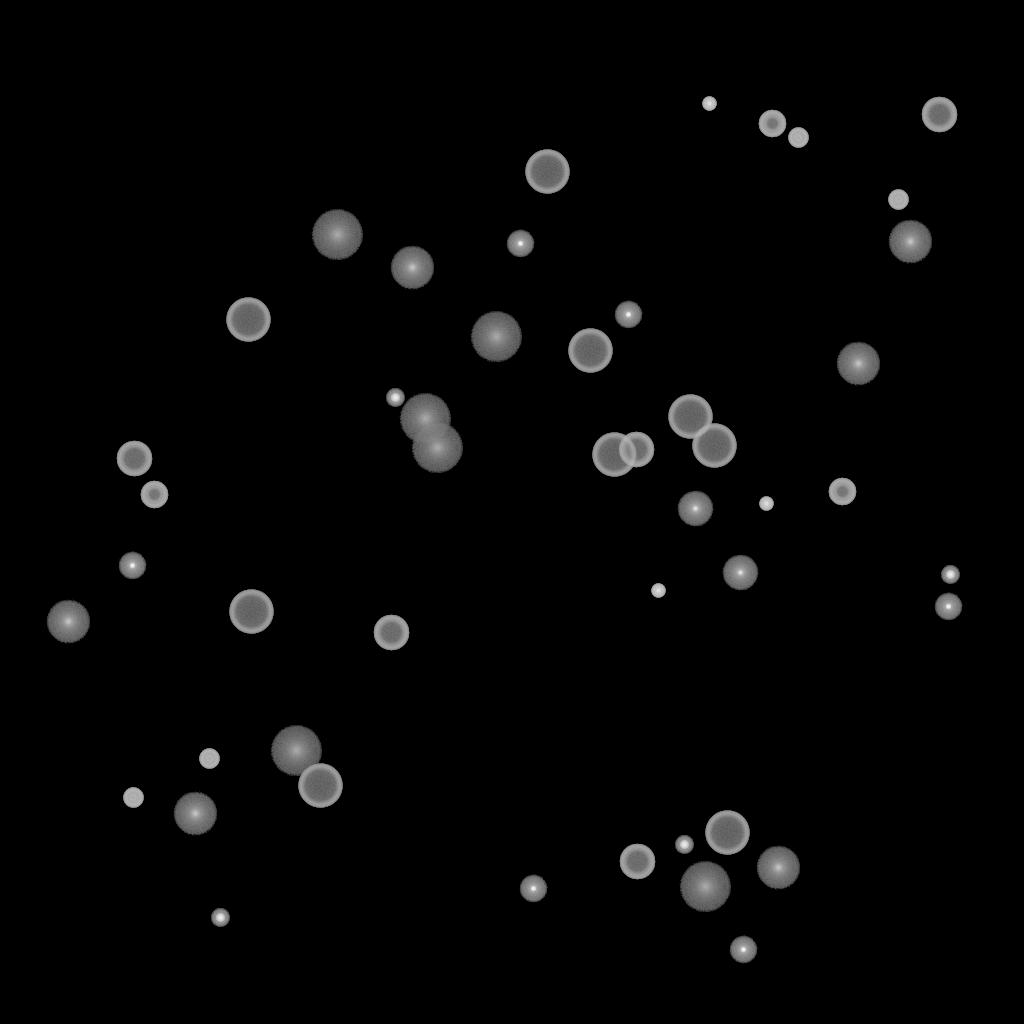depth:-10: (729, 936, 757, 964), (614, 301, 642, 329), (934, 593, 962, 621), (519, 875, 547, 903), (118, 552, 146, 580), (506, 230, 534, 258)
depth:-20: (386, 389, 404, 407), (211, 909, 229, 927), (941, 566, 959, 584), (675, 836, 693, 854)
depth:-30: (759, 497, 773, 511), (702, 97, 716, 111), (651, 584, 665, 598)
depth:-40: (123, 788, 143, 808), (888, 190, 908, 210), (788, 128, 808, 148), (199, 749, 219, 769)
depth:-50: (828, 478, 856, 506), (758, 110, 786, 138), (140, 481, 168, 509)
depth:-60: (116, 441, 152, 477), (619, 844, 655, 880), (373, 615, 409, 651), (618, 432, 654, 468), (921, 97, 957, 133)
depth:-70: (229, 590, 273, 634), (568, 329, 612, 373), (692, 424, 736, 468), (668, 395, 712, 439), (226, 298, 270, 342), (592, 433, 636, 477), (525, 150, 569, 194), (705, 811, 749, 855), (298, 764, 342, 808)
depth:0: (722, 555, 758, 591), (677, 491, 713, 527)
depth:10: (46, 600, 90, 644), (173, 792, 217, 836), (390, 246, 434, 290), (888, 220, 932, 264), (756, 846, 800, 890), (836, 342, 880, 386)
depth:20: (679, 862, 731, 912), (270, 726, 322, 776), (311, 210, 363, 260), (411, 423, 463, 473), (470, 312, 522, 362), (399, 394, 451, 444)
